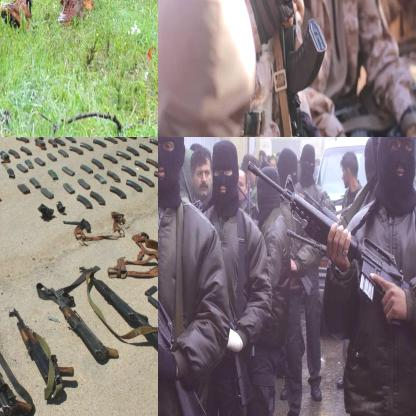pistol: (145, 291, 157, 323)
rifle: (246, 158, 412, 324), (158, 144, 206, 415), (259, 0, 330, 136), (6, 305, 74, 404), (81, 271, 157, 356), (46, 284, 119, 364), (0, 322, 34, 415)
